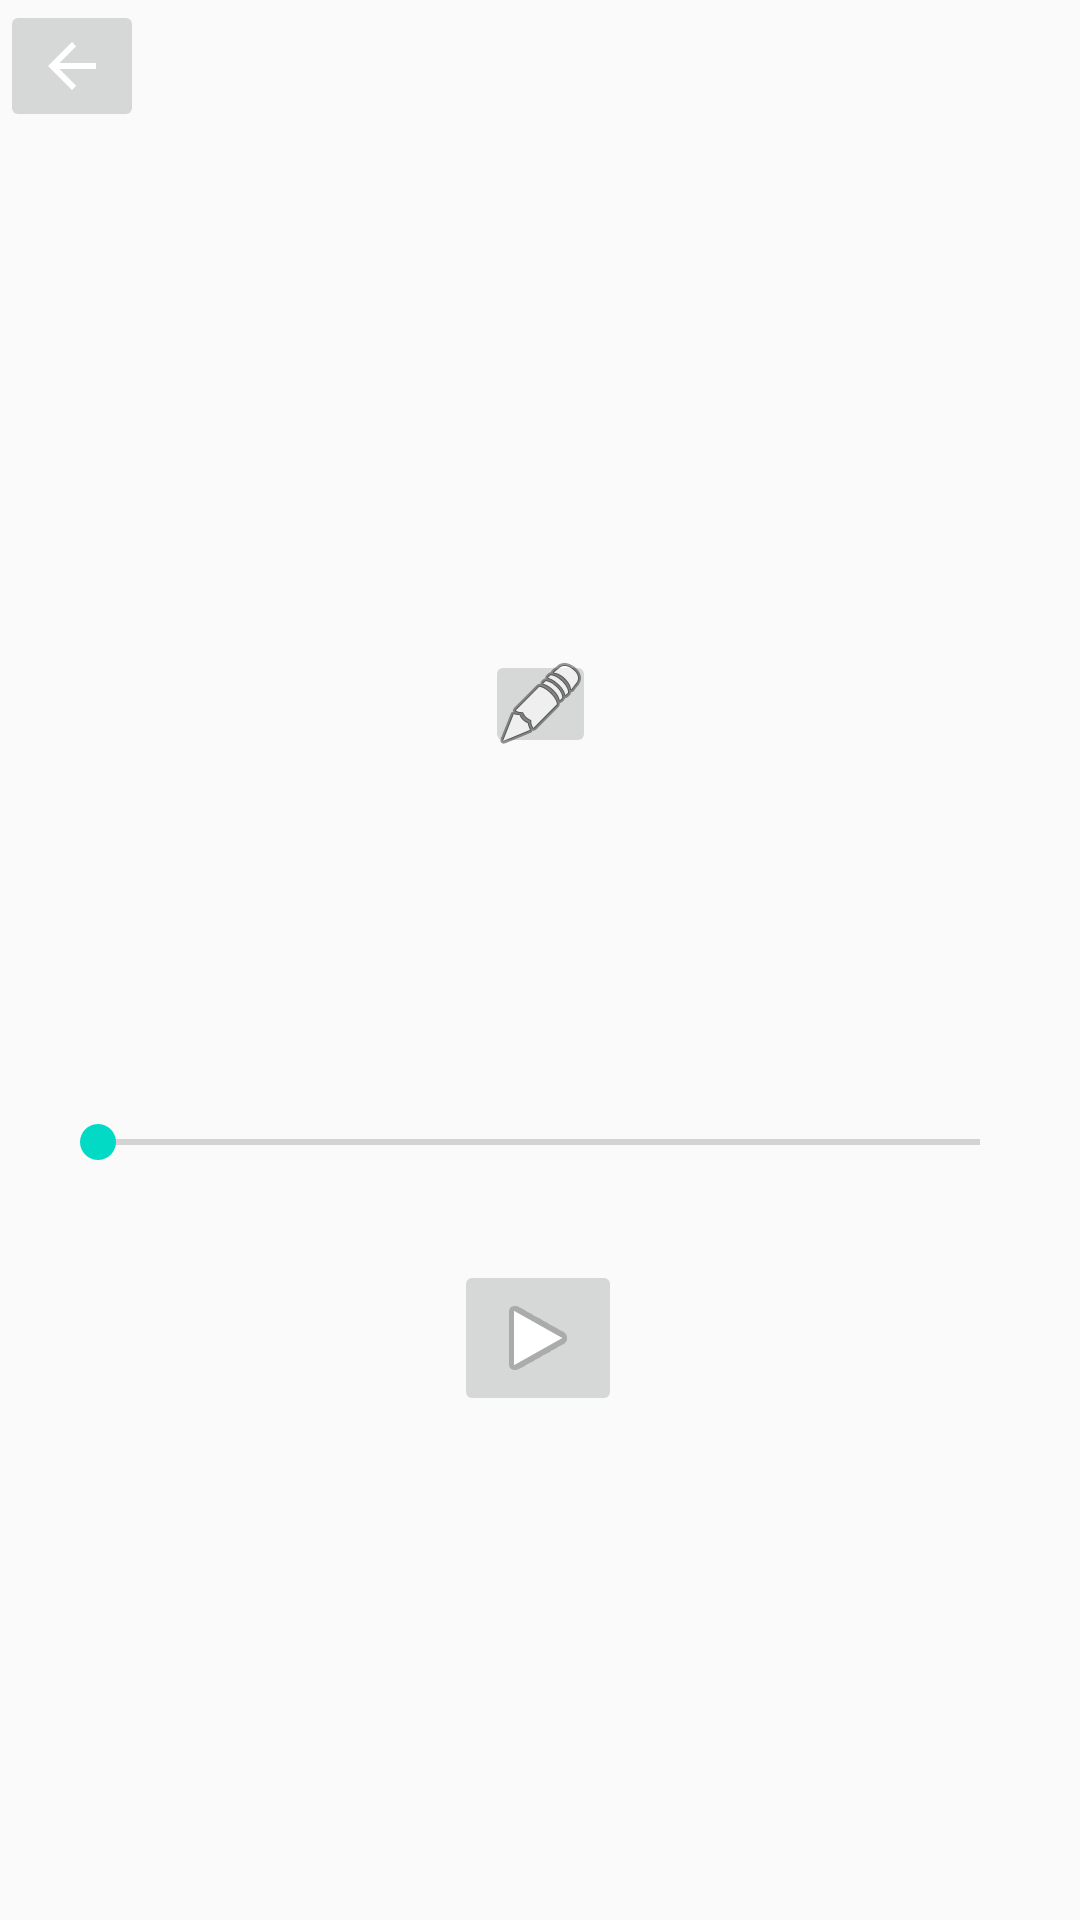

Icons on this 1080px x 1920px Android screen, each with the point to tap as point (x, y):
edit: point (540, 703)
play: point (538, 1338)
